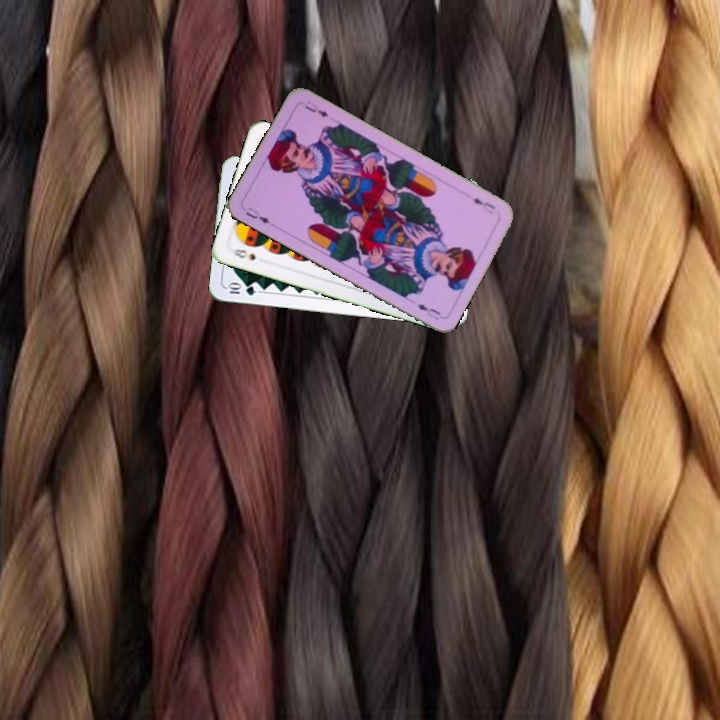EU: (468, 193, 498, 217), (242, 203, 273, 226)
G10: (223, 280, 258, 298)
S8: (229, 244, 258, 263)
